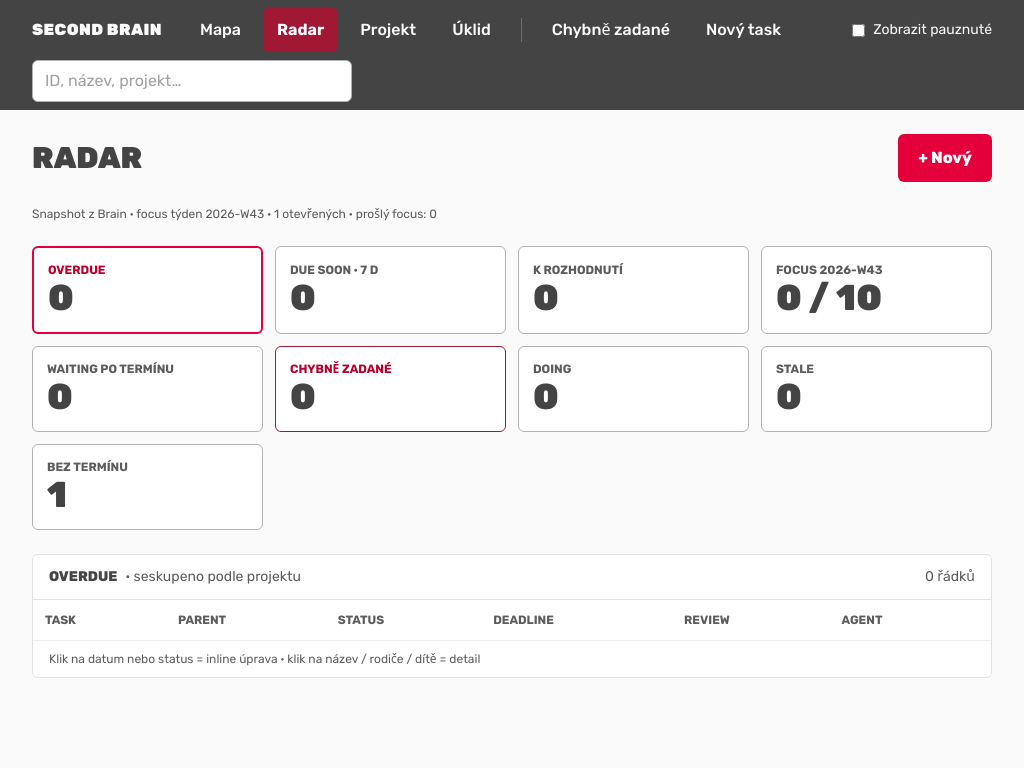
Test: screens › T16 PATCH materials OK then editBody fail shows error and stays in Detail
Click the button "Projekt": (388, 30) [346,8,430,52]
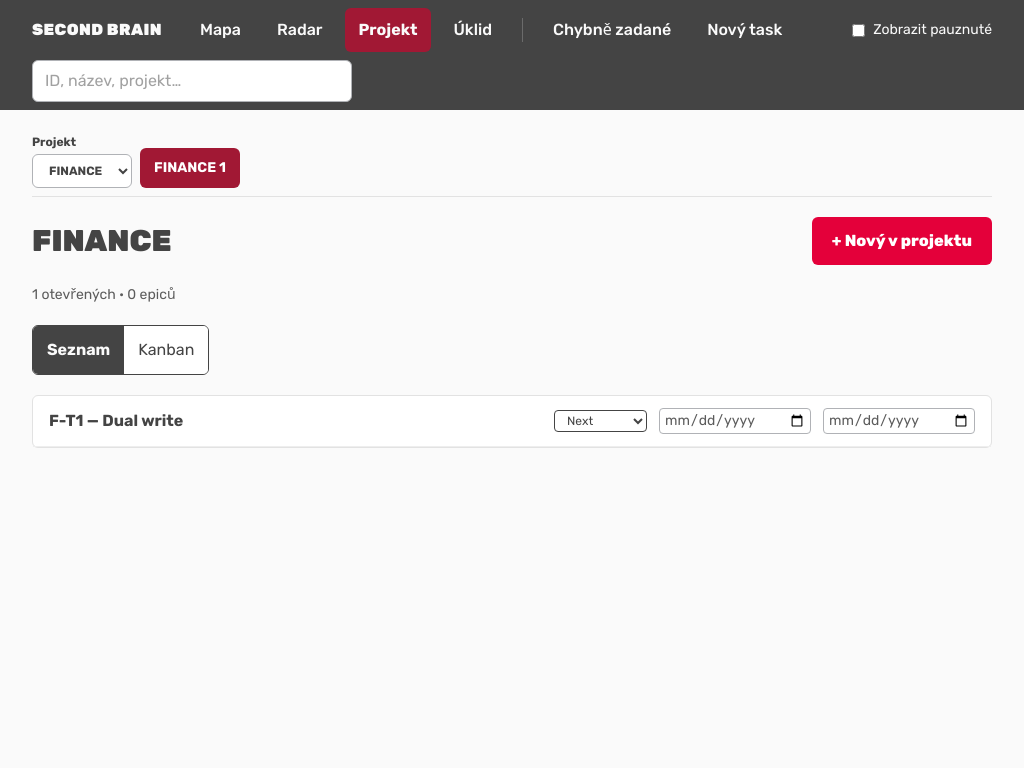
Click the button "F-T1 — Dual write": (116, 421) [49,409,183,433]
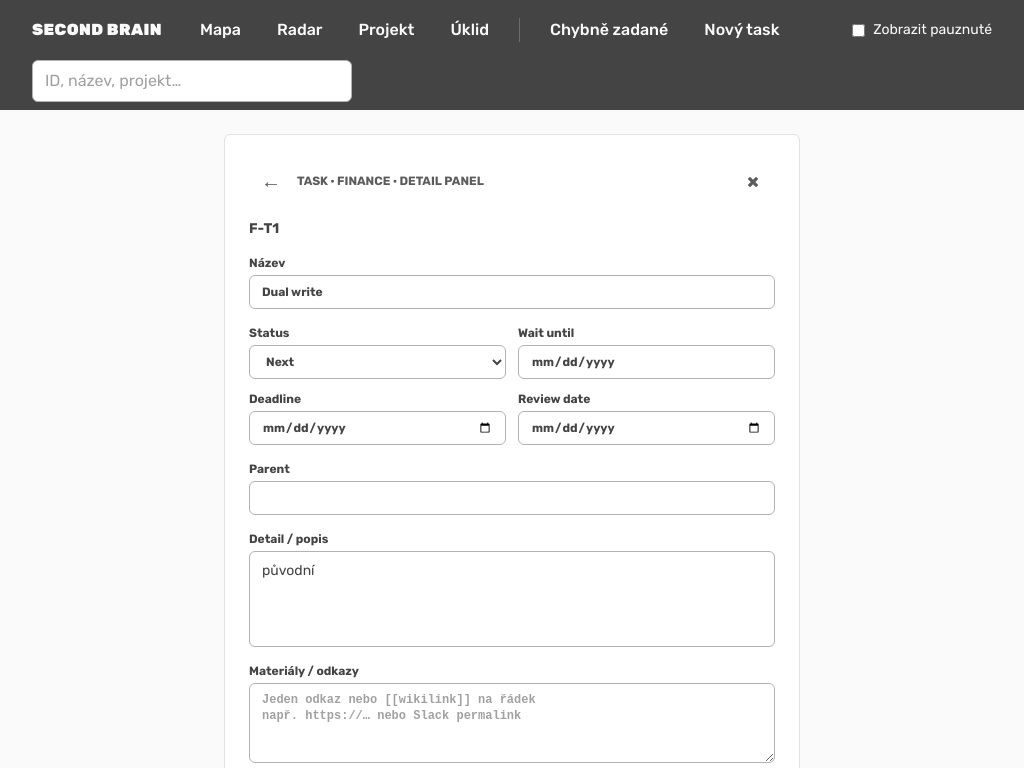
expect the button with aria-label "Detail úkolu" is shown: met, box [249,551,775,647]
Replace the text in the text box named "Materiály a odkazy" with "https://m.example/a": (512, 723) [249,683,775,763]
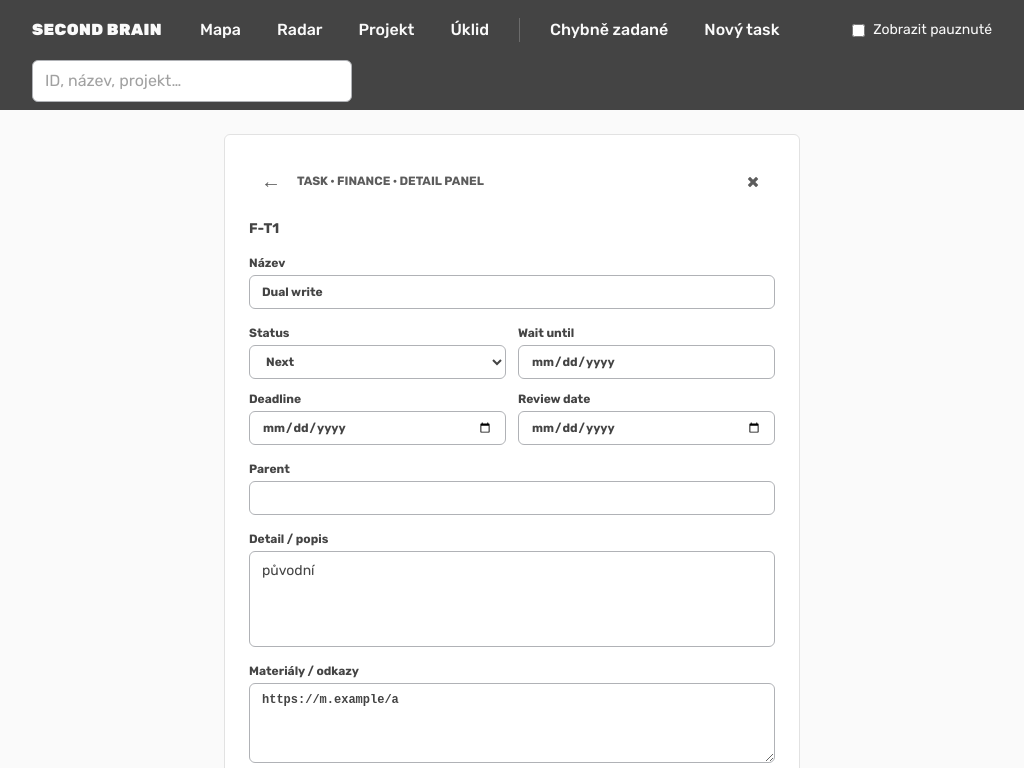
Click the button with aria-label "Detail úkolu": (288, 570) [249,551,775,647]
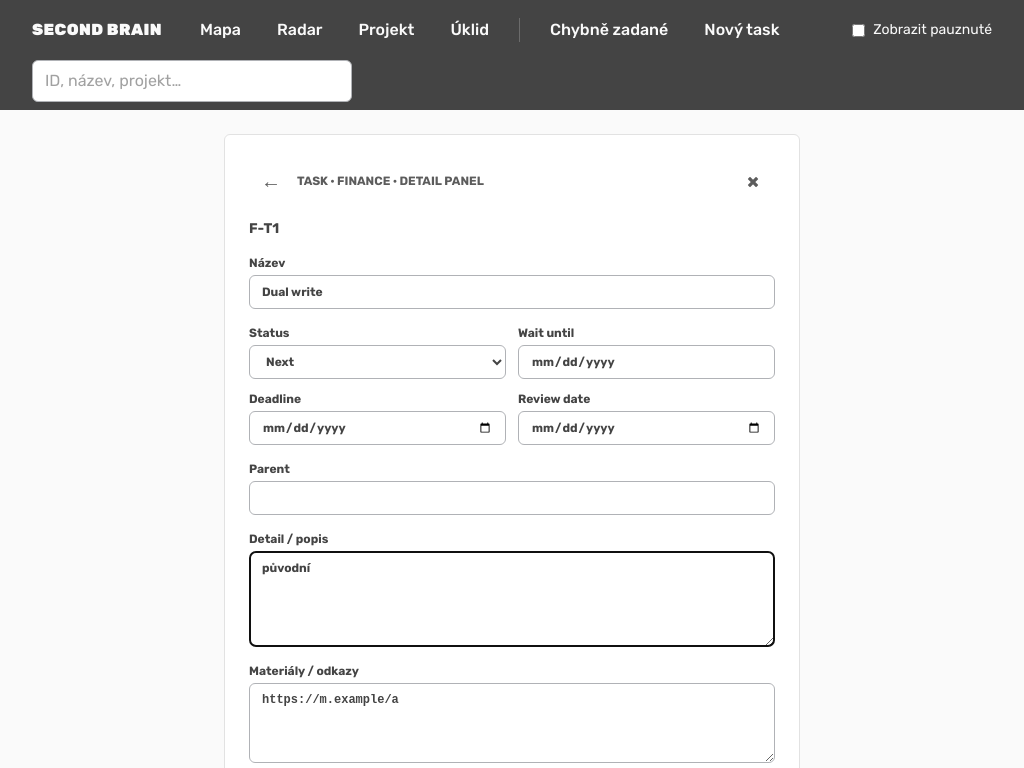
Replace the text in the text box named "Detail úkolu" with "nový popis": (512, 599) [249,551,775,647]
(page scrolled)
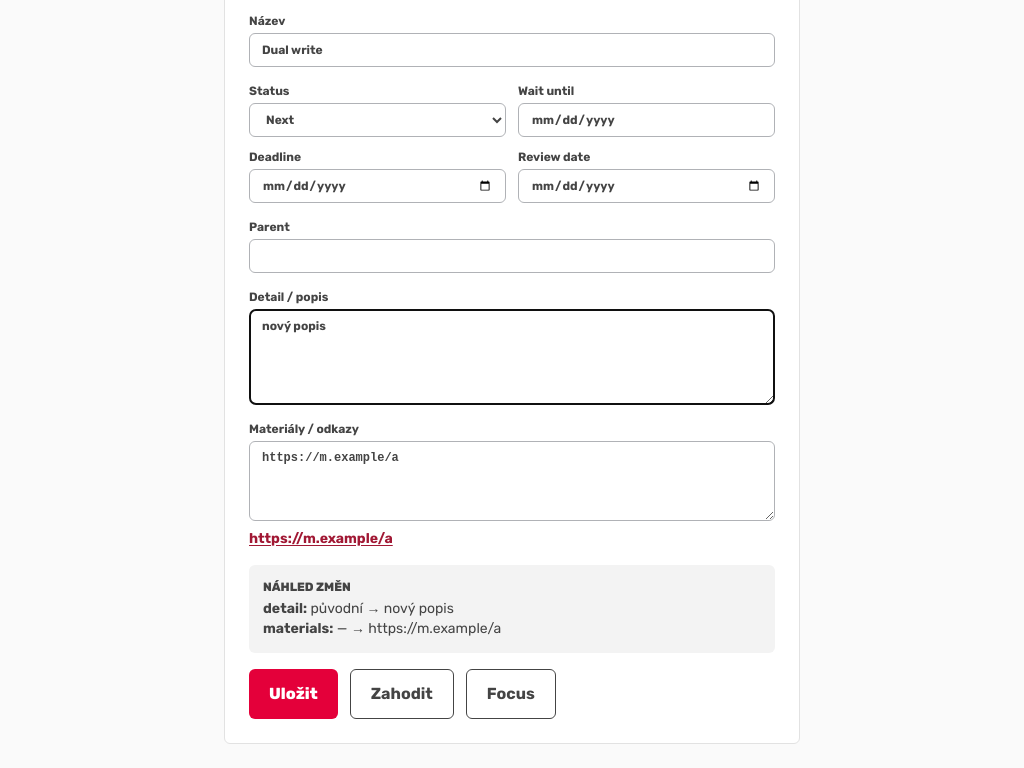
Click the button "Uložit": (293, 694) [249,669,338,719]
(page scrolled)
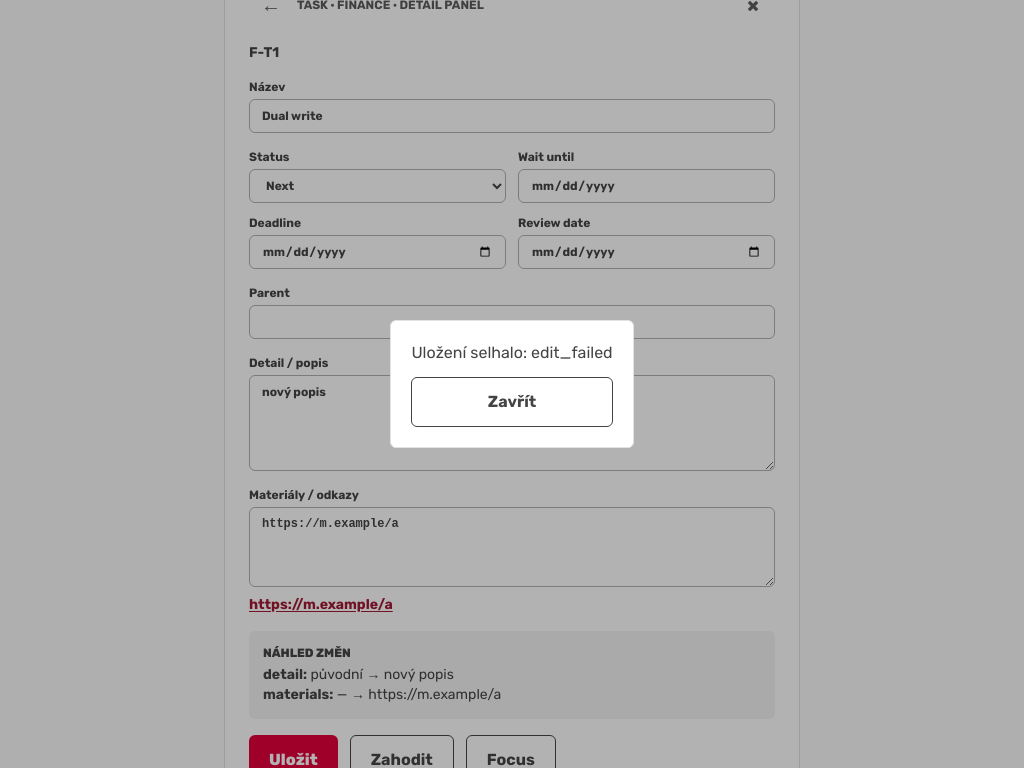
expect the dialog named "Chyba uložení" is shown: met
